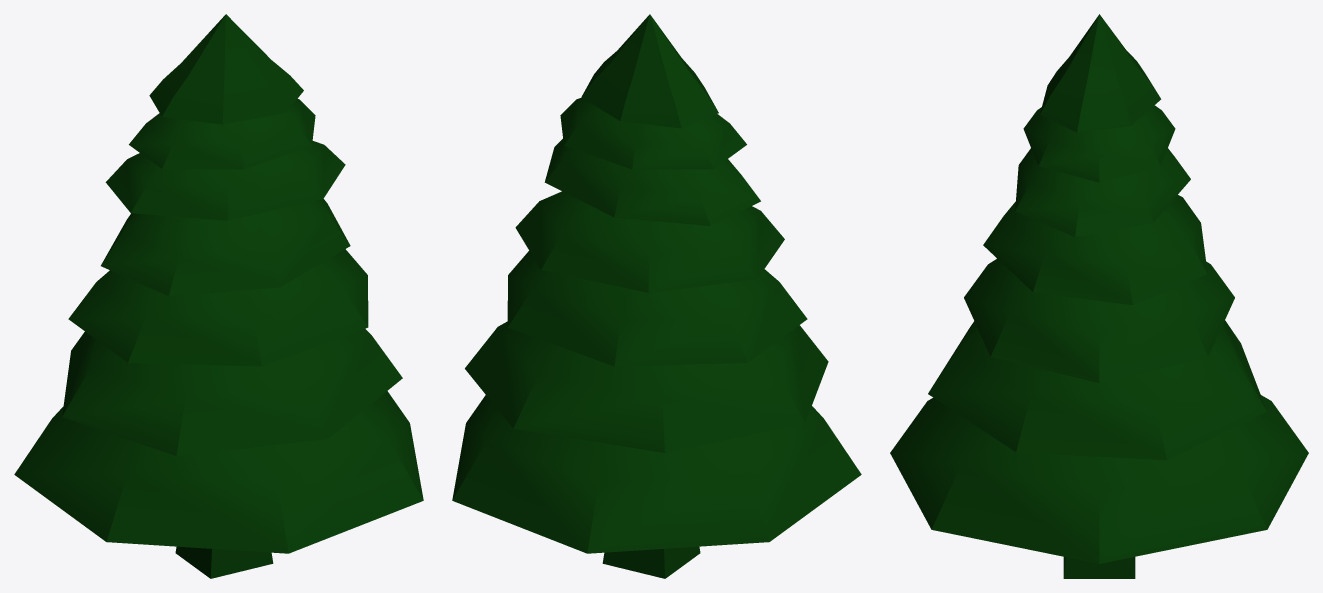
The model's file is Tree_03.fbx.
3 views of the same model, side by side, from view 1: azimuth 30°, elevation 25°; view 2: azimuth 150°, elevation 25°; view 3: azimuth 270°, elevation 25° (orthographic).
Parts seen in each view (by area): view 1: Cylinder001, Box001; view 2: Cylinder001, Box001; view 3: Cylinder001, Box001.
Boxes of the visible parts, box(x1,y1,x2,y2) form: Cylinder001: box(14, 14, 423, 553); Box001: box(175, 546, 273, 578); Cylinder001: box(452, 14, 861, 553); Box001: box(602, 546, 700, 578); Cylinder001: box(890, 14, 1308, 563); Box001: box(1063, 557, 1135, 578).
Bounding box in the file's own units: 38.43 × 39.42 × 57.13.
